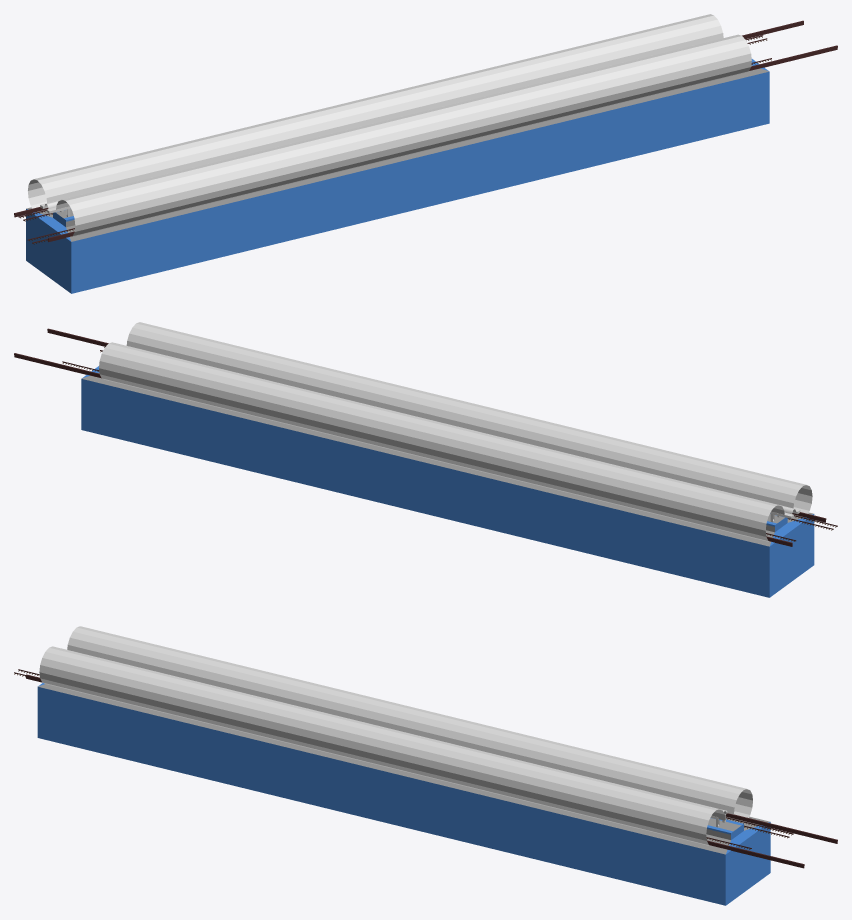
File: Jackson Station.fbx
The picture shows the model from 3 angles, top to bottom: view 1: azimuth 30°, elevation 25°; view 2: azimuth 150°, elevation 25°; view 3: azimuth 330°, elevation 25°; orthographic projection.
Parts seen in each view (by area): view 1: Cylinder, Cube, Cube.007; view 2: Cylinder, Cube, Cube.006; view 3: Cylinder, Cube, Cube.007, Cube.006.
Boxes of the visible parts, <box> form: Cylinder: <box>28,14,751,237</box>; Cube: <box>26,59,769,293</box>; Cube.007: <box>48,45,837,242</box>; Cylinder: <box>99,322,812,542</box>; Cube: <box>81,366,814,597</box>; Cube.006: <box>14,353,792,546</box>; Cylinder: <box>39,626,752,846</box>; Cube: <box>37,683,770,905</box>; Cube.007: <box>25,674,804,868</box>; Cube.006: <box>726,813,837,843</box>.
Bounding box in the file's own units: 71263 × 7271 × 7300.
